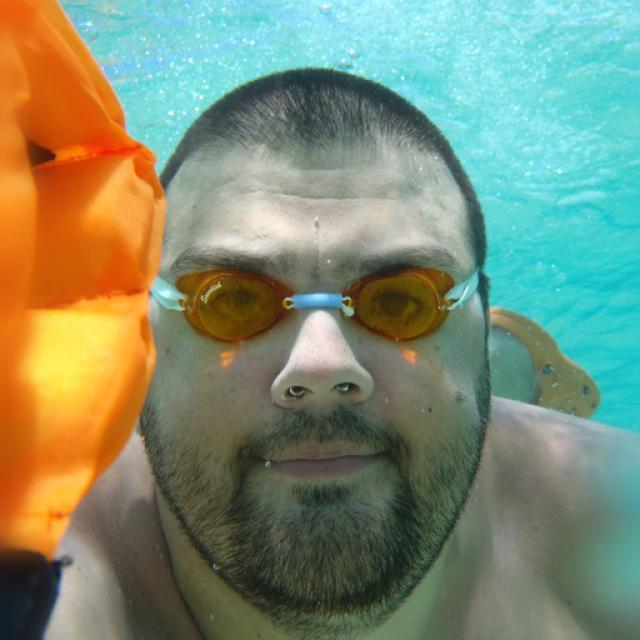anger: (161, 180, 481, 602)
